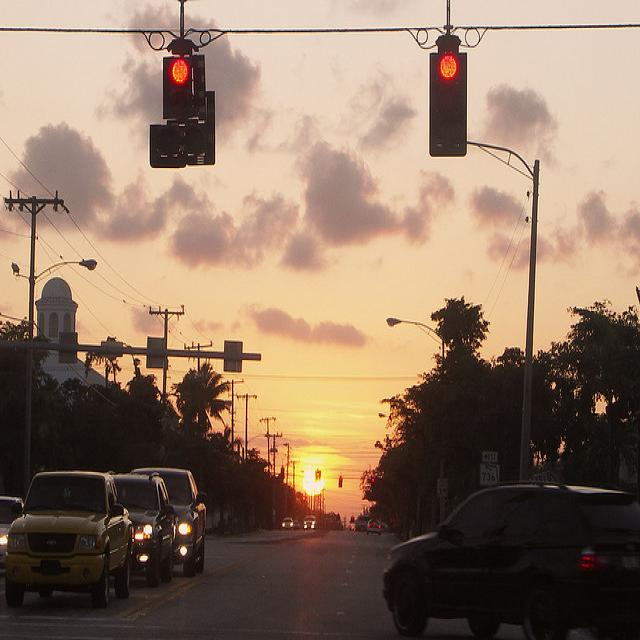Vehicle: (383, 477, 640, 640), (5, 469, 135, 610), (133, 463, 210, 577), (107, 470, 176, 588), (0, 495, 24, 577), (354, 515, 372, 532), (301, 515, 316, 530), (367, 519, 381, 535), (282, 518, 292, 527), (293, 520, 300, 528)
